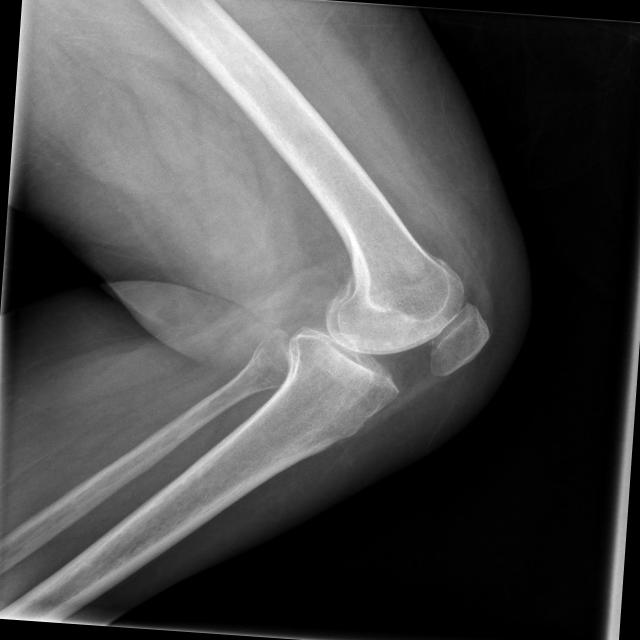Knee: (283, 243, 496, 408)
